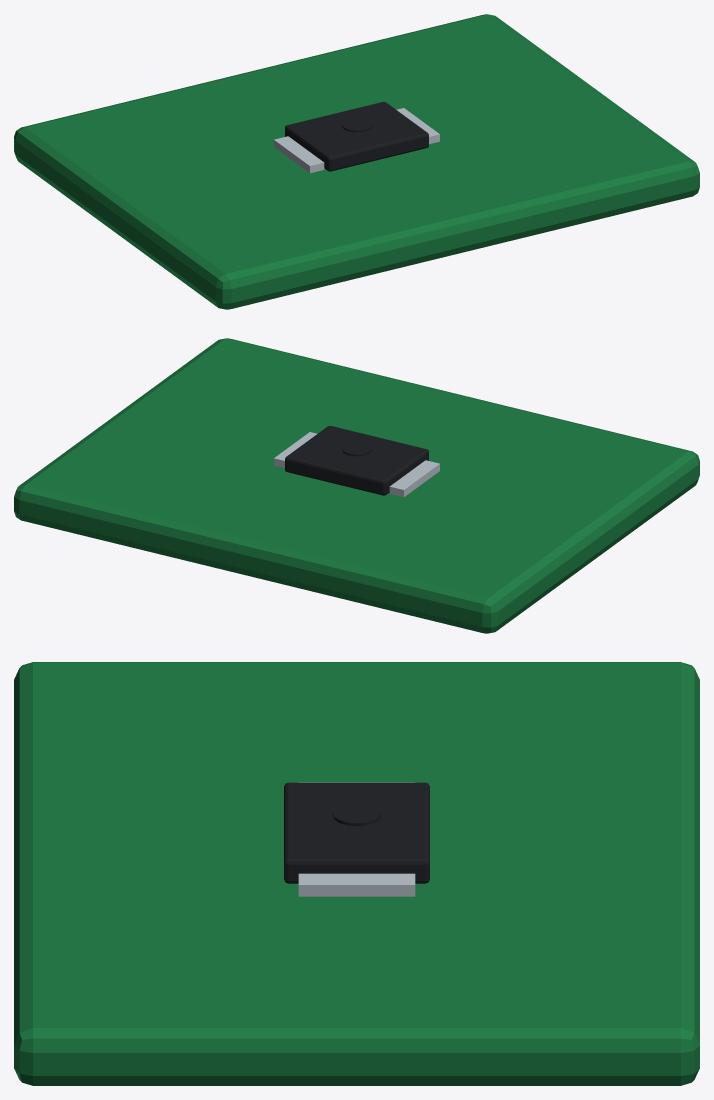
The model's file is microphone_i2s_sph0645.glb.
3 views of the same model, one above another, from view 1: azimuth 30°, elevation 25°; view 2: azimuth 150°, elevation 25°; view 3: azimuth 270°, elevation 25° (orthographic). The views are drawn at different scales.
Visible parts, largest first — view 1: part_microphone_i2s_sph0645__pcb, part_microphone_i2s_sph0645__black_polymer, part_microphone_i2s_sph0645__steel; view 2: part_microphone_i2s_sph0645__pcb, part_microphone_i2s_sph0645__black_polymer, part_microphone_i2s_sph0645__steel; view 3: part_microphone_i2s_sph0645__pcb, part_microphone_i2s_sph0645__black_polymer, part_microphone_i2s_sph0645__steel.
Part boxes in pixels (bbox=[...]): part_microphone_i2s_sph0645__pcb: bbox=[14, 14, 699, 309]; part_microphone_i2s_sph0645__black_polymer: bbox=[285, 102, 428, 171]; part_microphone_i2s_sph0645__steel: bbox=[274, 108, 439, 173]; part_microphone_i2s_sph0645__pcb: bbox=[14, 338, 699, 633]; part_microphone_i2s_sph0645__black_polymer: bbox=[285, 426, 428, 495]; part_microphone_i2s_sph0645__steel: bbox=[274, 432, 439, 497]; part_microphone_i2s_sph0645__pcb: bbox=[14, 662, 699, 1085]; part_microphone_i2s_sph0645__black_polymer: bbox=[284, 782, 429, 883]; part_microphone_i2s_sph0645__steel: bbox=[298, 782, 415, 896].
Size of the model in its own units: 0.0167 by 0.00183 by 0.0127.
